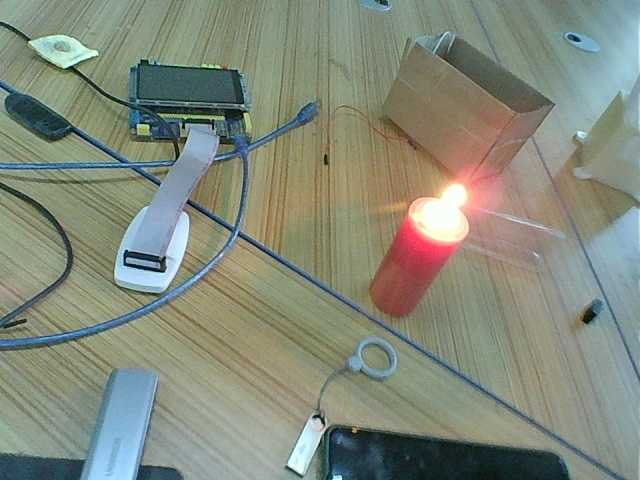candle: (366, 216, 451, 315)
fire: (417, 178, 476, 234)
